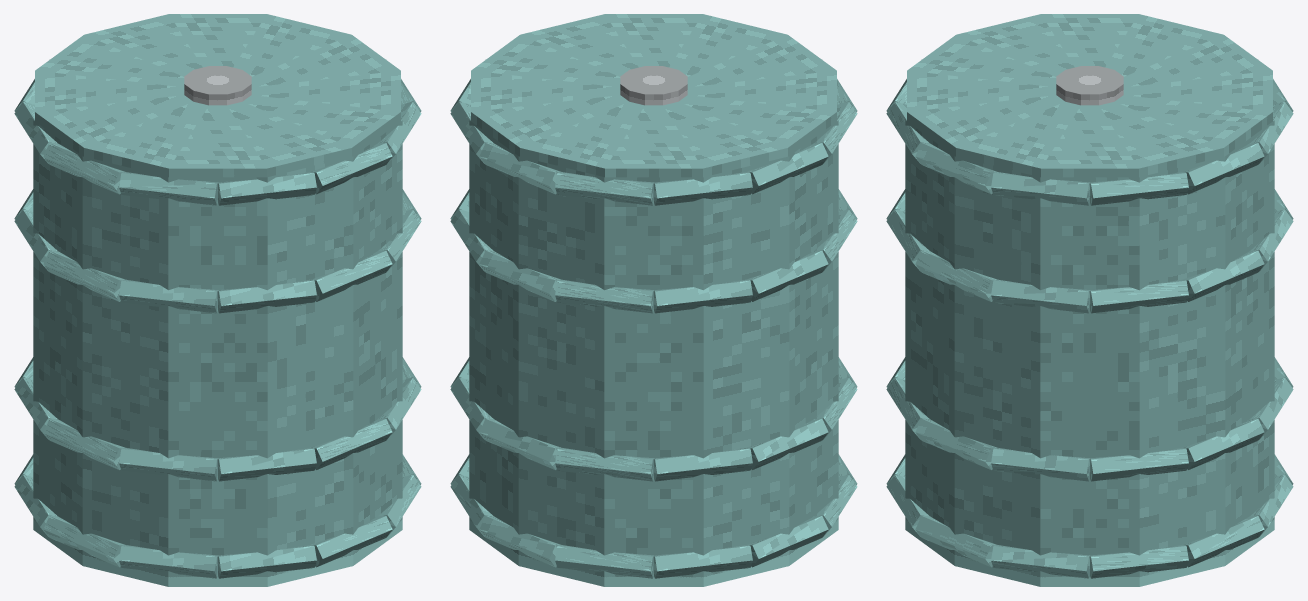
File: keg.glb
3 renders of one model, left to right at view 1: azimuth 30°, elevation 25°; view 2: azimuth 150°, elevation 25°; view 3: azimuth 270°, elevation 25°, orthographic.
Parts seen in each view (by area): view 1: block_walls, block_lid, block_hoop3 (×4), block_hoop4 (×4), block_hoop2 (×4), block_hoop5 (×4), block_hoop1 (×4), block_hoop6 (×4), block_bung, block_foot; view 2: block_walls, block_lid, block_hoop7 (×4), block_hoop8 (×4), block_hoop6 (×4), block_hoop9 (×4), block_hoop5 (×4), block_hoop10 (×4), block_bung, block_foot; view 3: block_walls, block_lid, block_hoop0 (×4), block_hoop11 (×4), block_hoop1 (×4), block_hoop10 (×4), block_hoop2 (×4), block_hoop9 (×4), block_bung, block_foot.
Boxes of the visible parts, x1,y1,x2,y2 form: block_walls: (33,120,402,586); block_lid: (35,14,400,177); block_hoop3 (×4): (218,172,316,578); block_hoop4 (×4): (119,172,217,578); block_hoop2 (×4): (311,143,392,567); block_hoop5 (×4): (43,143,124,567); block_hoop1 (×4): (378,102,421,536); block_hoop6 (×4): (14,102,57,536); block_bung: (184,66,251,105); block_foot: (33,517,402,586); block_walls: (469,120,838,586); block_lid: (471,14,836,177); block_hoop7 (×4): (654,172,752,578); block_hoop8 (×4): (555,172,653,578); block_hoop6 (×4): (747,143,828,567); block_hoop9 (×4): (479,143,560,567); block_hoop5 (×4): (814,102,857,536); block_hoop10 (×4): (450,102,493,536); block_bung: (620,66,687,105); block_foot: (469,517,838,586); block_walls: (905,120,1274,586); block_lid: (907,14,1272,177); block_hoop0 (×4): (991,172,1089,578); block_hoop11 (×4): (1090,172,1188,578); block_hoop1 (×4): (915,143,996,567); block_hoop10 (×4): (1183,143,1264,567); block_hoop2 (×4): (886,102,929,536); block_hoop9 (×4): (1250,102,1293,536); block_bung: (1056,66,1123,105); block_foot: (905,517,1274,586).
Bounding box in the file's own units: 0.4569 × 0.5307 × 0.4569.
Materials: 2 (2 with a texture image).
